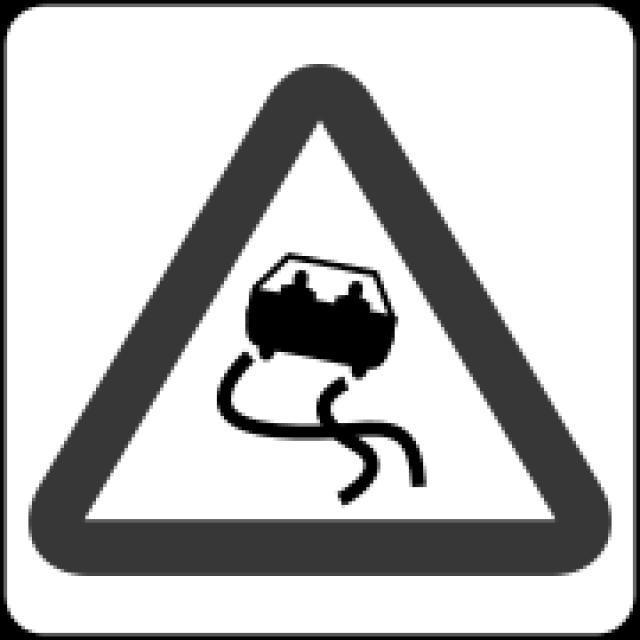slippery road: (23, 65, 610, 574)
